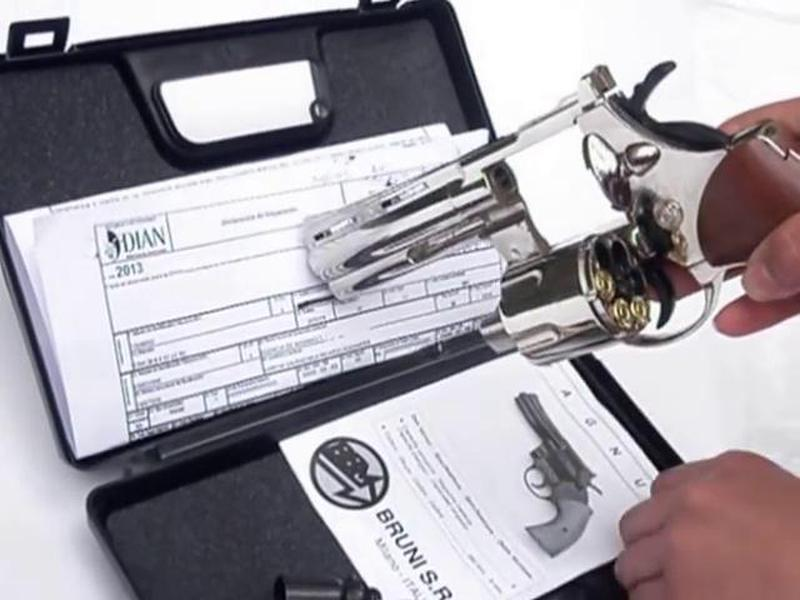Revolver: (280, 60, 800, 392)
